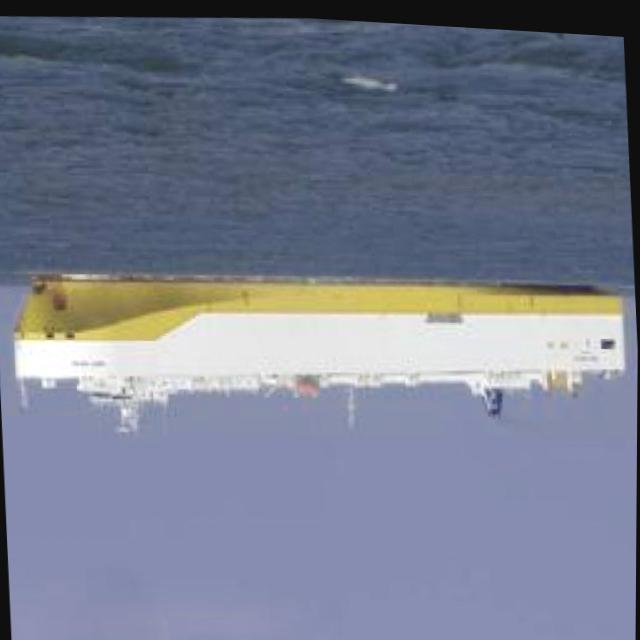ship2: (12, 274, 627, 438)
